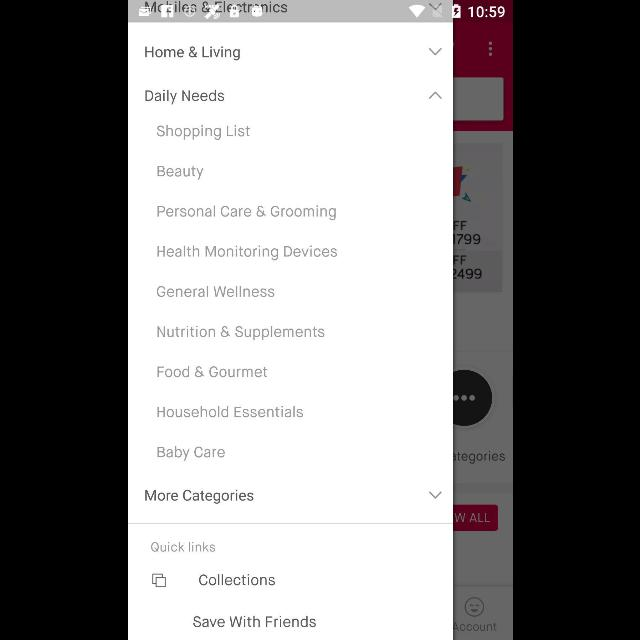icon: (151, 573, 165, 587), (428, 491, 442, 499), (428, 92, 442, 100), (428, 48, 442, 56)
panel: (128, 22, 452, 640)
text: (157, 245, 337, 261), (157, 205, 336, 221), (156, 325, 324, 341), (157, 406, 303, 418), (144, 490, 253, 504), (156, 125, 250, 141), (192, 615, 316, 627), (156, 286, 274, 298), (144, 47, 240, 61), (157, 366, 267, 378), (144, 89, 223, 105), (156, 446, 224, 462), (198, 574, 274, 586), (157, 166, 203, 180), (150, 542, 214, 552)
uppertaskbar: (128, 1, 512, 23)
